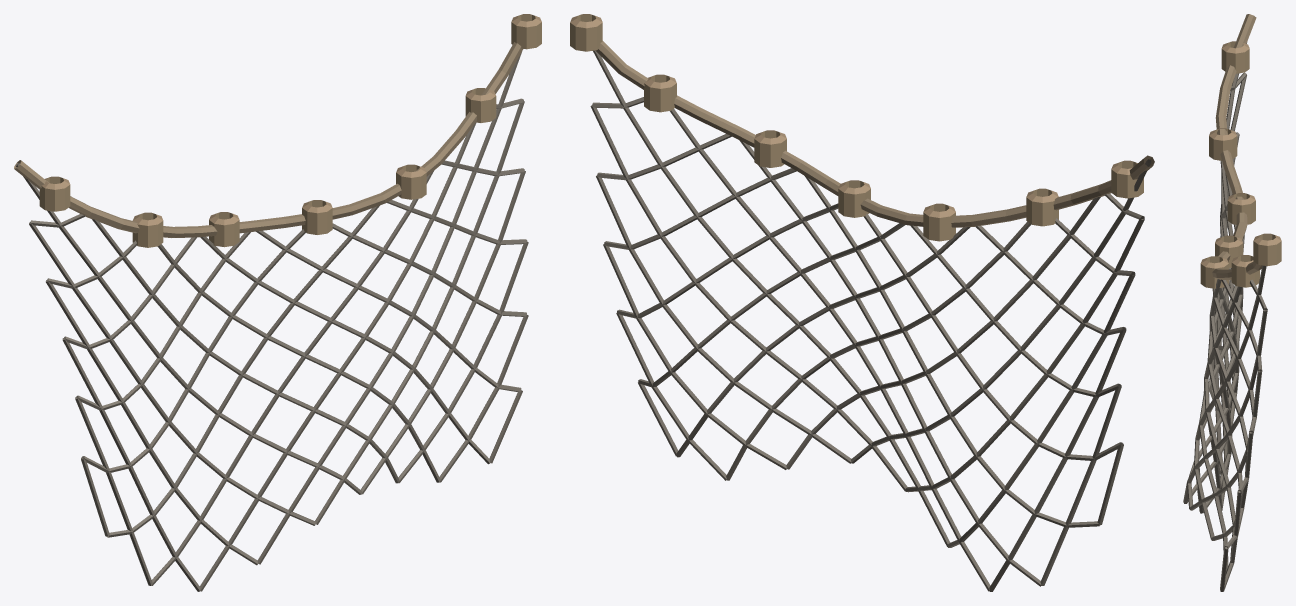
File: cork_seine.glb
3 renders of one model, left to right at view 1: azimuth 30°, elevation 25°; view 2: azimuth 150°, elevation 25°; view 3: azimuth 270°, elevation 25°, orthographic. The views are drawn at different scales.
Parts seen in each view (by area): view 1: cork_seine; view 2: cork_seine; view 3: cork_seine.
Boxes of the visible parts, x1=… form: cork_seine: x1=14, y1=14, x2=541, y2=591; cork_seine: x1=570, y1=14, x2=1154, y2=591; cork_seine: x1=1183, y1=14, x2=1281, y2=591.
Bounding box in the file's own units: 1.79 × 1.5 × 0.3081.
